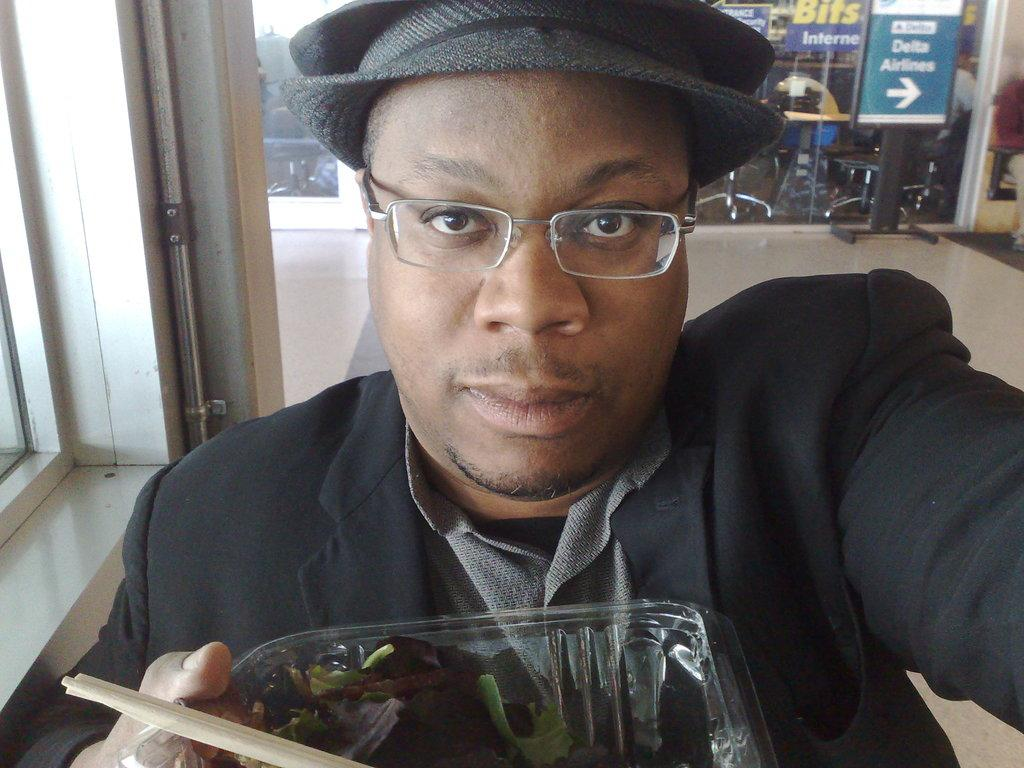Hat: (276, 0, 788, 190)
